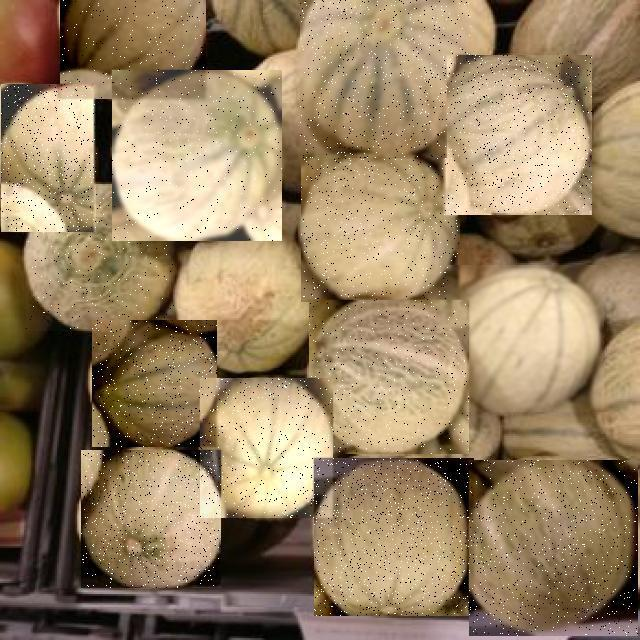Cantaloupe: (469, 460, 638, 636), (112, 70, 282, 241), (300, 0, 471, 158), (315, 458, 475, 616), (309, 300, 469, 454), (302, 154, 460, 302), (447, 55, 592, 215), (448, 265, 604, 412), (26, 184, 174, 331), (81, 451, 221, 589), (200, 379, 333, 519), (92, 320, 217, 447), (60, 0, 206, 99), (2, 84, 98, 232)
